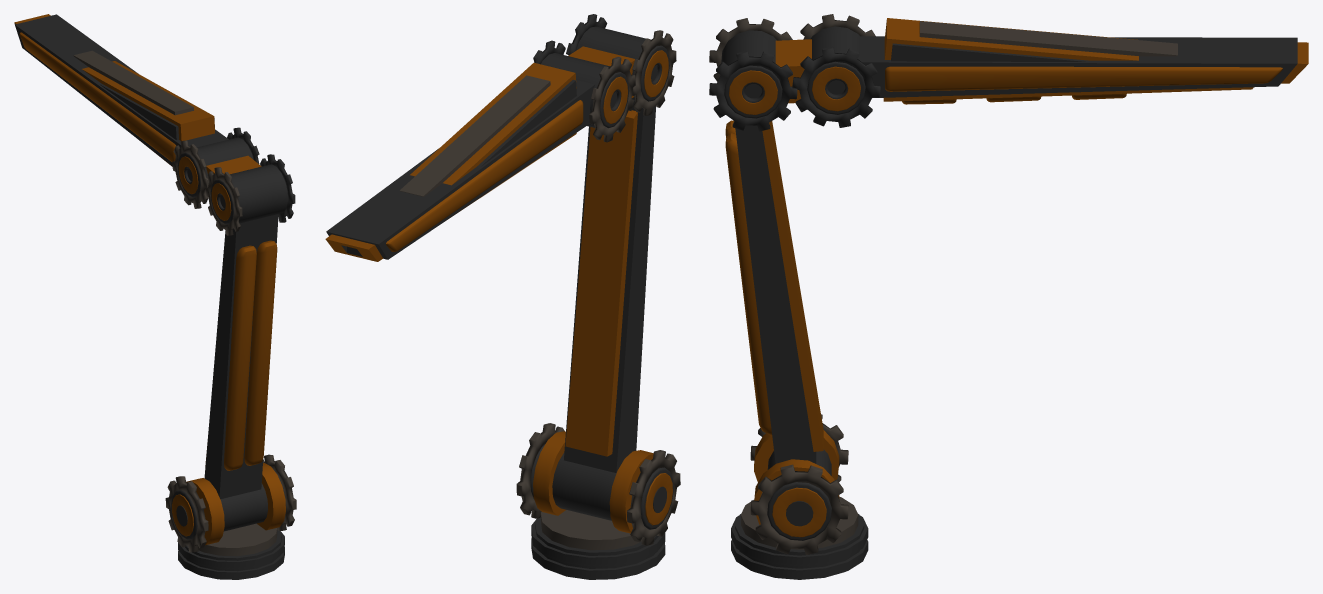
File: Манипулятор малыш.fbx
3 views of the same model, side by side, from view 1: azimuth 30°, elevation 25°; view 2: azimuth 150°, elevation 25°; view 3: azimuth 270°, elevation 25° (orthographic). The views are drawn at different scales.
Parts seen in each view (by area): view 1: Cube, Cube_7, Cube_4, Cube_1, Cube_3_2, Cylinder_4, Cube_5, Шестеренушка_1, Cube_2_2, Шестеренушка_2, Шестеренушка_5, Cylinder_2_3 (+11 smaller); view 2: Cube_3, Cube, Cube_1, Cube_3_2, Cube_2_2, Шестеренушка_1, Cube_5, Cylinder_2_2, Cylinder_2_3, Шестеренушка_5, Шестеренушка_2, Tube (+11 smaller); view 3: Cube, Cube_1, Cube_3_2, Шестеренушка, Шестеренушка_4, Шестеренушка_3, Cube_2_2, Cube_3, Cube_7, Cube_5, Cube_2_3, Cylinder_2 (+11 smaller).
Boxes of the visible parts, bbox=[...] form: Cube: bbox=[204, 214, 278, 499]; Cube_7: bbox=[244, 240, 277, 465]; Cube_4: bbox=[224, 245, 256, 470]; Cube_1: bbox=[15, 14, 228, 166]; Cube_3_2: bbox=[19, 32, 175, 161]; Cylinder_4: bbox=[220, 164, 287, 223]; Cube_5: bbox=[82, 61, 214, 141]; Шестеренушка_1: bbox=[165, 476, 208, 552]; Cube_2_2: bbox=[73, 50, 193, 115]; Шестеренушка_2: bbox=[205, 167, 242, 235]; Шестеренушка_5: bbox=[172, 140, 208, 208]; Cylinder_2_3: bbox=[197, 523, 277, 556]; Cube_3: bbox=[565, 110, 637, 456]; Cube: bbox=[564, 101, 655, 472]; Cube_1: bbox=[326, 80, 594, 259]; Cube_3_2: bbox=[386, 100, 583, 251]; Cube_2_2: bbox=[399, 75, 550, 196]; Шестеренушка_1: bbox=[627, 450, 680, 545]; Cube_5: bbox=[410, 63, 576, 185]; Cylinder_2_2: bbox=[552, 453, 616, 520]; Cylinder_2_3: bbox=[541, 510, 642, 550]; Шестеренушка_5: bbox=[589, 56, 635, 142]; Шестеренушка_2: bbox=[632, 30, 676, 115]; Tube: bbox=[533, 431, 565, 515]; Cube: bbox=[735, 125, 816, 463]; Cube_1: bbox=[858, 36, 1297, 97]; Cube_3_2: bbox=[885, 66, 1282, 91]; Шестеренушка: bbox=[750, 464, 848, 554]; Шестеренушка_4: bbox=[792, 46, 880, 127]; Шестеренушка_3: bbox=[709, 51, 797, 131]; Cube_2_2: bbox=[919, 21, 1177, 56]; Cube_3: bbox=[762, 121, 823, 451]; Cube_7: bbox=[725, 133, 772, 435]; Cube_5: bbox=[884, 18, 1138, 60]; Cube_2_3: bbox=[891, 43, 1088, 61]; Cylinder_2: bbox=[731, 515, 868, 566].
Size of the model in its own units: 88.58 by 353 by 365.
